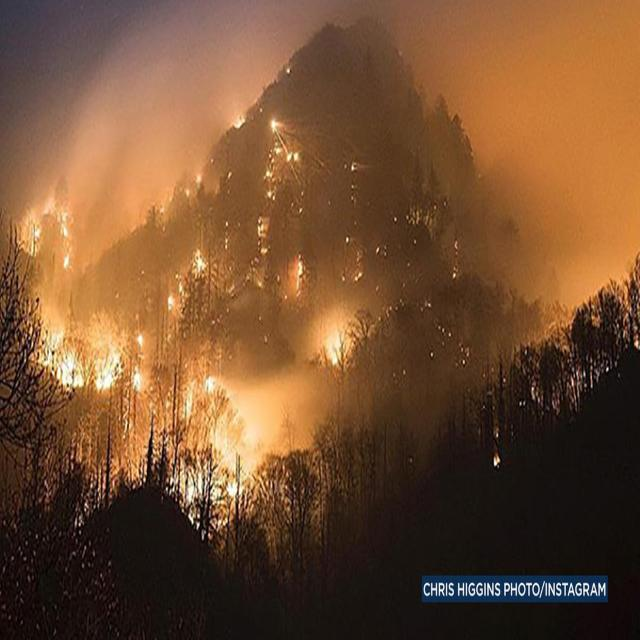Fire: (176, 361, 248, 531), (40, 316, 141, 395), (22, 184, 80, 275), (322, 318, 349, 371)
Smoke: (450, 0, 637, 277), (85, 27, 238, 174), (255, 380, 326, 449)
